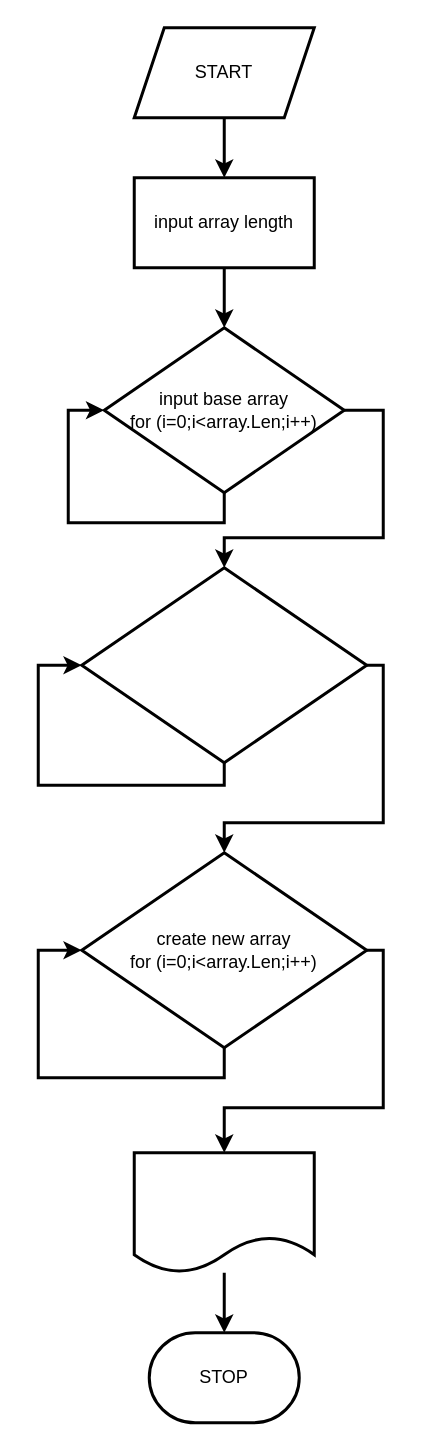
Some shapes in this 422 by 1449 pixel diagram are drawn without their labels. Here are the shapes that lost their labels. From the top down, the box of each, then its label:
(80, 566, 368, 764): count new array len for (i=0;i<array.Len;i++) if string.lrn<=3
(132, 1150, 315, 1274): Print new array
